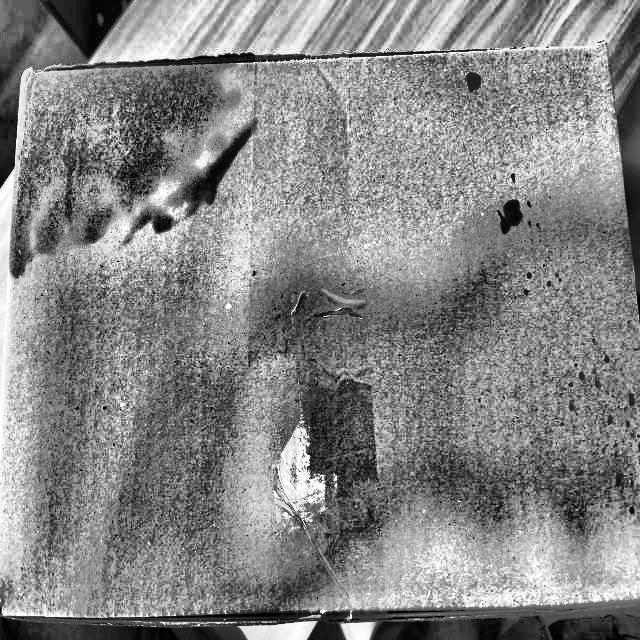box: (6, 56, 640, 640)
hole: (185, 580, 637, 636)
wet: (10, 75, 247, 229)
